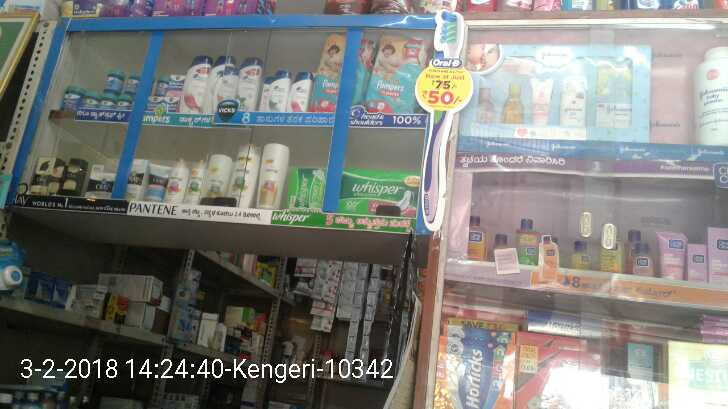beauty: (179, 51, 206, 122), (207, 50, 235, 116), (235, 54, 261, 116), (259, 141, 282, 208), (53, 150, 83, 201), (233, 144, 257, 207), (203, 151, 231, 202), (27, 145, 53, 197), (265, 68, 289, 116), (181, 159, 203, 210), (126, 155, 150, 200), (291, 73, 314, 117), (166, 154, 184, 208), (84, 165, 111, 197)
pharmacy: (313, 28, 366, 117), (339, 168, 412, 219), (369, 34, 416, 110), (283, 163, 324, 213), (145, 71, 179, 119), (98, 88, 127, 110), (58, 81, 79, 109), (102, 66, 121, 89), (79, 92, 97, 107)
